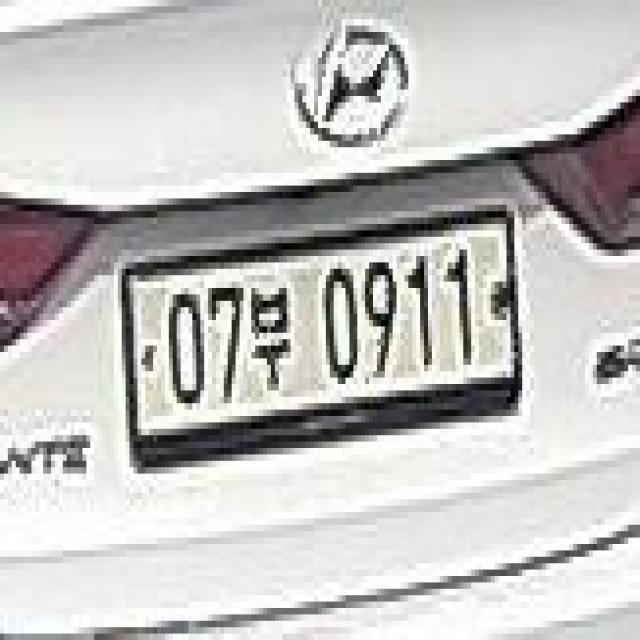illegal_plate: (115, 204, 529, 470)
